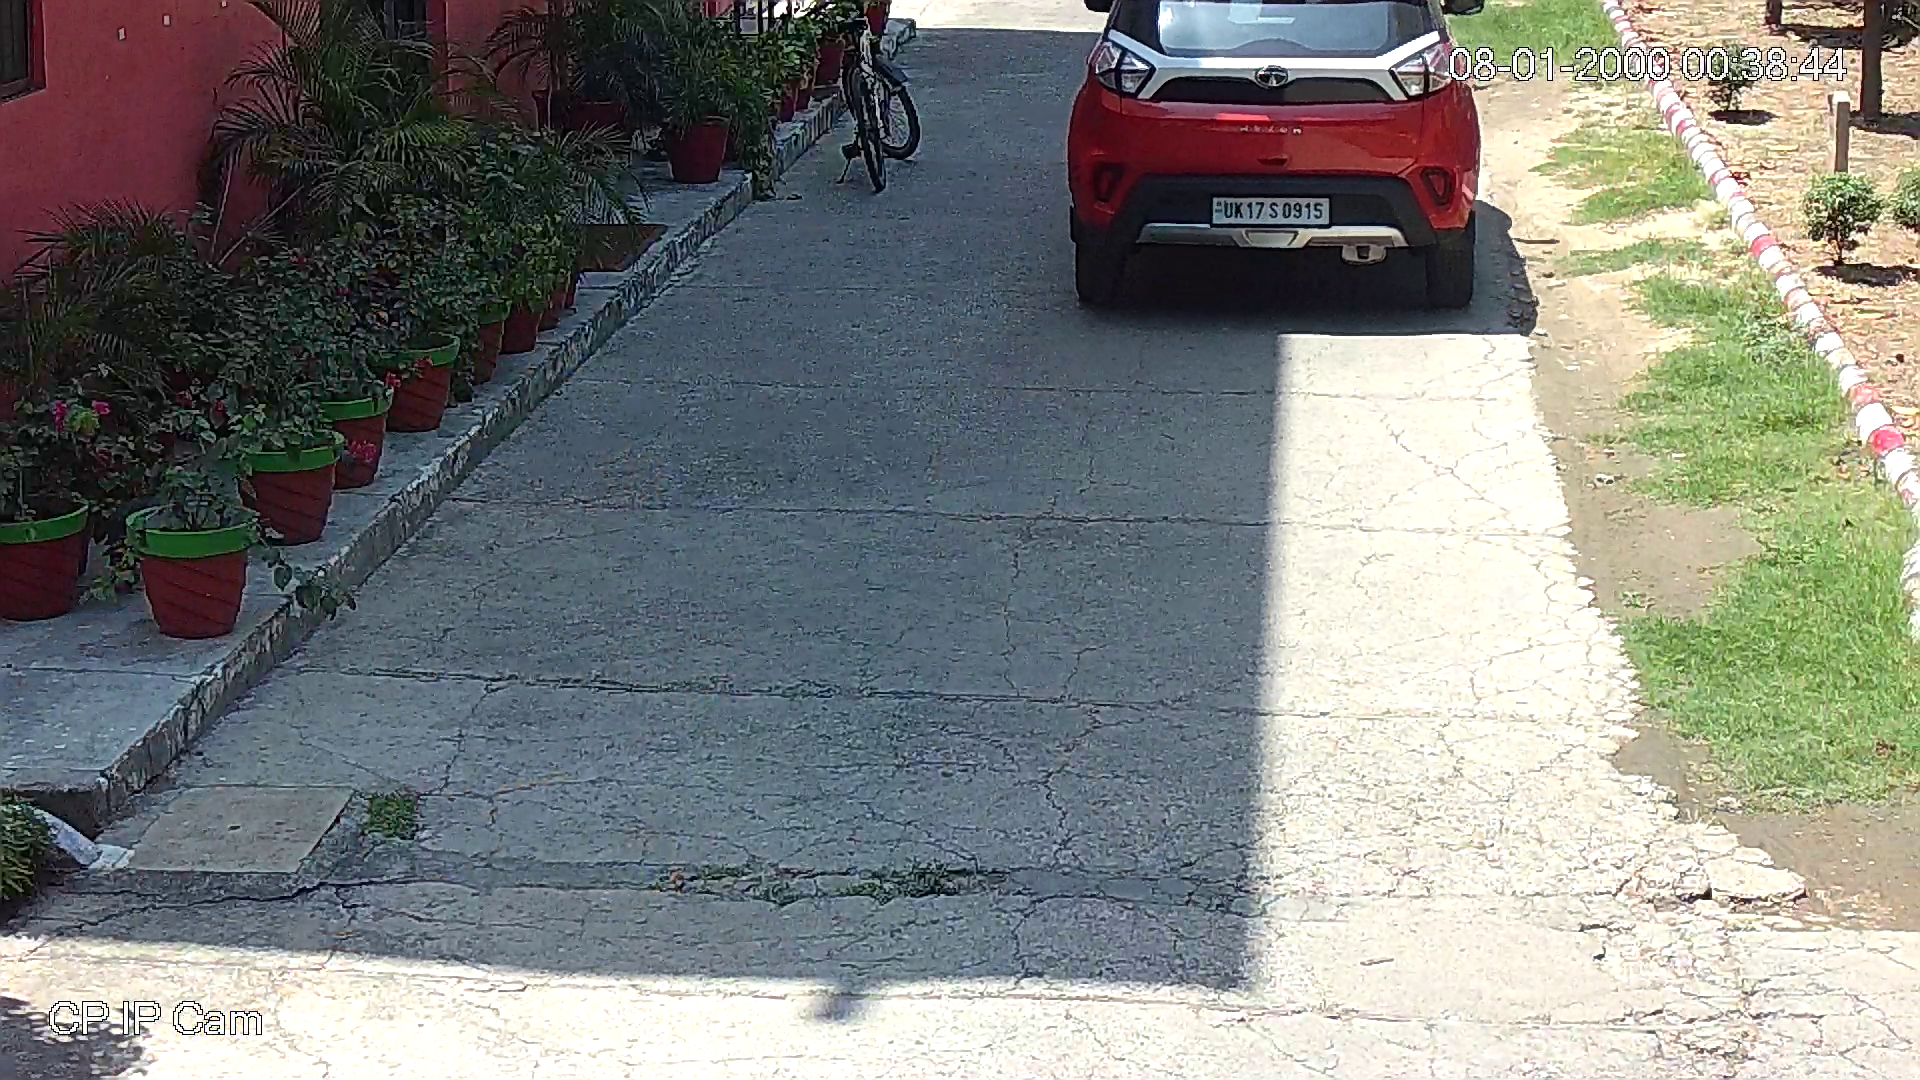plate: (1208, 193, 1334, 231)
